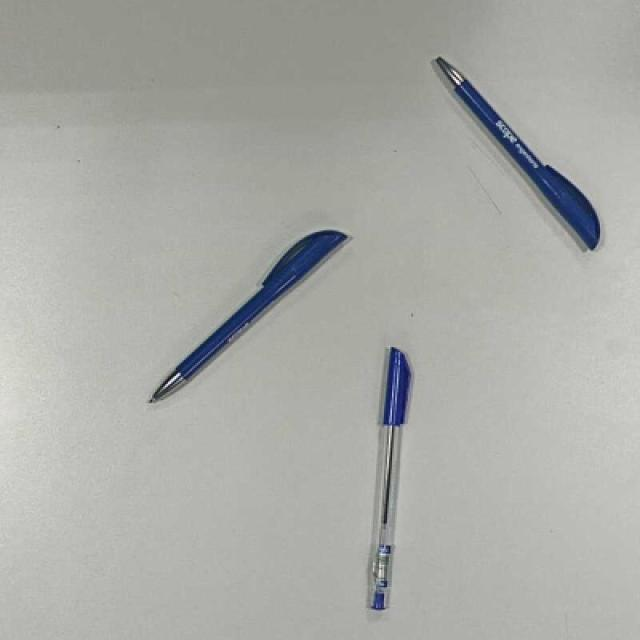caneta: (135, 214, 349, 411), (432, 43, 617, 251), (365, 347, 413, 611)
